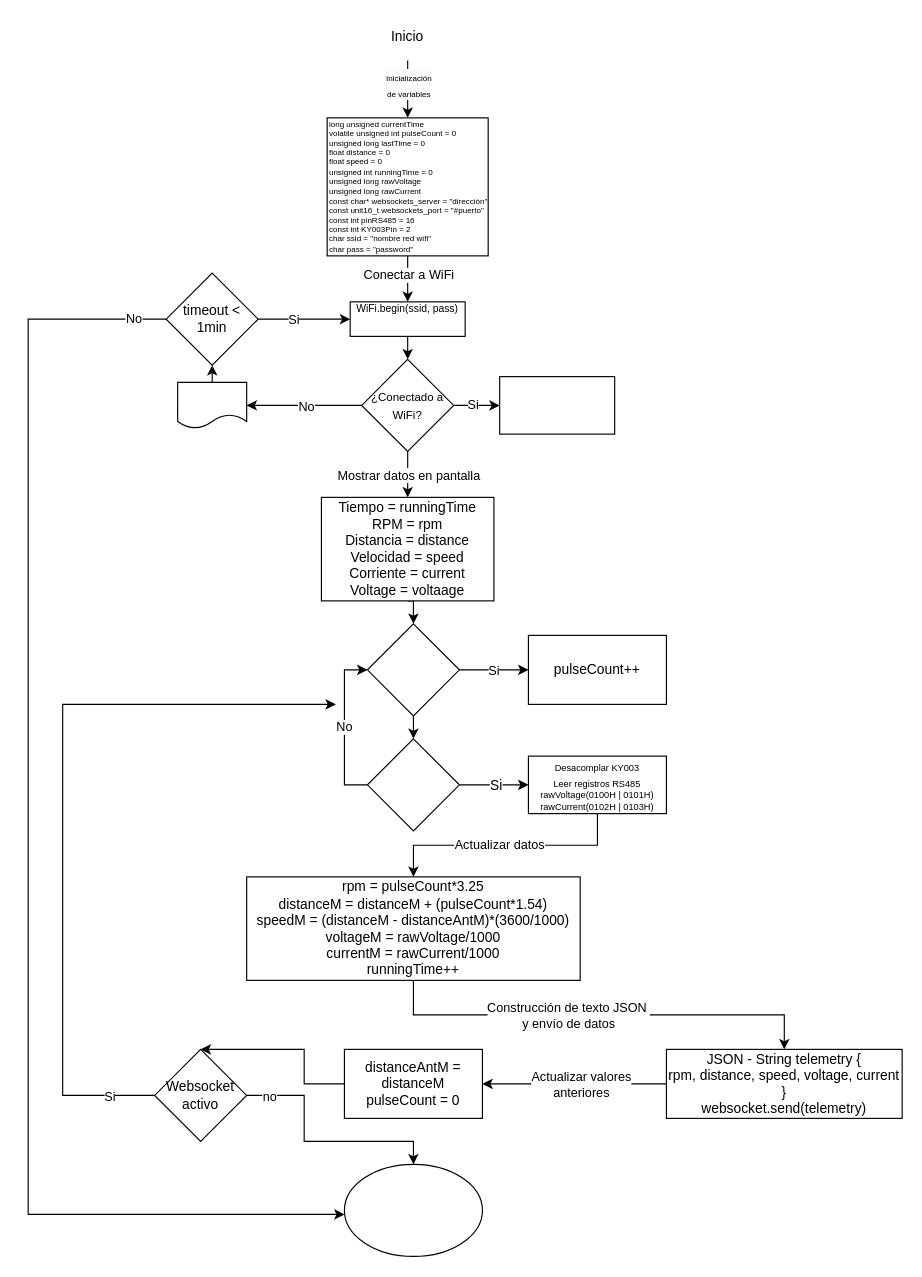
Some shapes in this 922 by 1277 pixel diagram are drawn without their labels. The shapes that lost their labels are listed below. From the top down, each one's centre as x and y in pixels, then its label:
the point at 212,404: imprimir error
the point at 557,404: Conectar a websoket ws.websocket_server ws.websocket_port
the point at 412,669: Detección sensor hall +1
the point at 412,784: CurrentTime>1[seg]
the point at 412,1209: Fin
